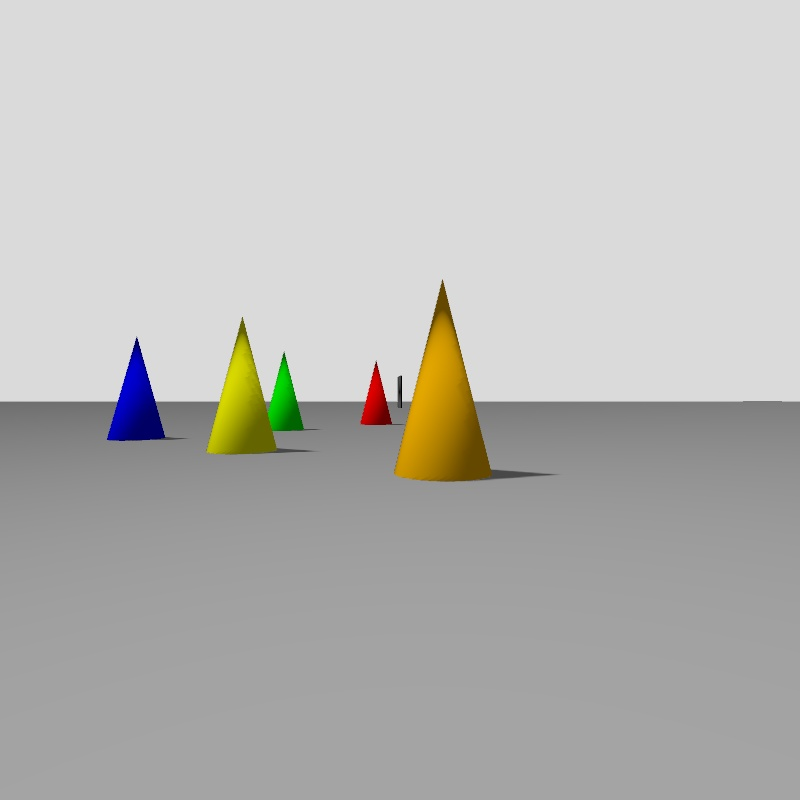Blue_cone: (108, 338, 165, 440)
Green_cone: (268, 353, 303, 430)
Orange_cone: (395, 282, 491, 480)
Red_cone: (360, 362, 390, 424)
Yellow_cone: (207, 318, 277, 453)
